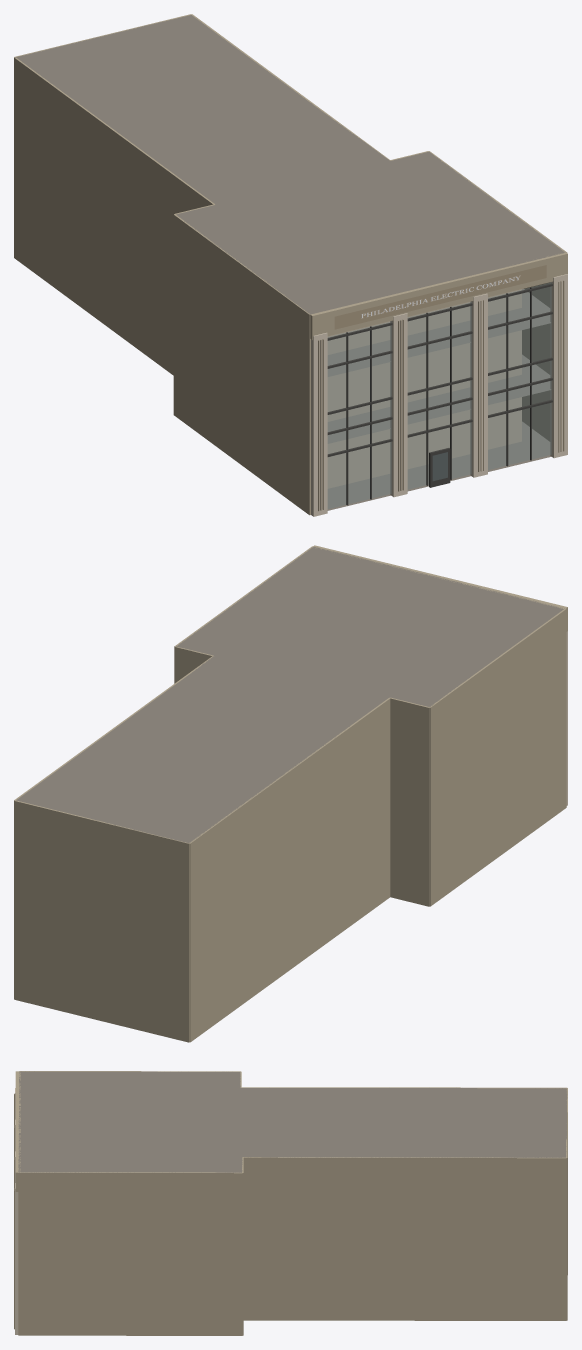
3 renders of one model, top to bottom at view 1: azimuth 30°, elevation 25°; view 2: azimuth 150°, elevation 25°; view 3: azimuth 270°, elevation 25°, orthographic. The views are drawn at different scales.
Visible parts, largest first — view 1: Roof, Shell, Electric Company facade, Floor 1, Floor 0, Floor 2, Sign; view 2: Shell, Roof, Electric Company facade; view 3: Shell, Roof, Electric Company facade.
Part boxes in pixels (left/top/right/bottom): Roof: left=15, top=15, right=565, bottom=314; Shell: left=14, top=14, right=567, bottom=515; Electric Company facade: left=310, top=252, right=567, bottom=516; Floor 1: left=327, top=330, right=550, bottom=443; Floor 0: left=327, top=397, right=551, bottom=510; Floor 2: left=327, top=288, right=550, bottom=376; Sign: left=334, top=265, right=546, bottom=329; Shell: left=14, top=546, right=566, bottom=1042; Roof: left=16, top=547, right=564, bottom=843; Electric Company facade: left=313, top=545, right=567, bottom=805; Shell: left=18, top=1071, right=567, bottom=1335; Roof: left=18, top=1071, right=567, bottom=1172; Electric Company facade: left=14, top=1071, right=20, bottom=1334.
Bounding box in the file's own units: 20.64 × 15.34 × 47.3.
8 materials, 1 textured.
